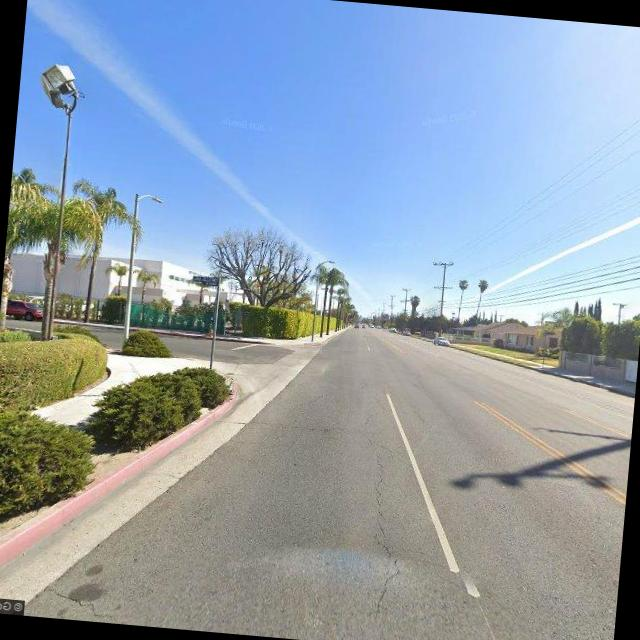crack: (342, 416, 404, 633)
